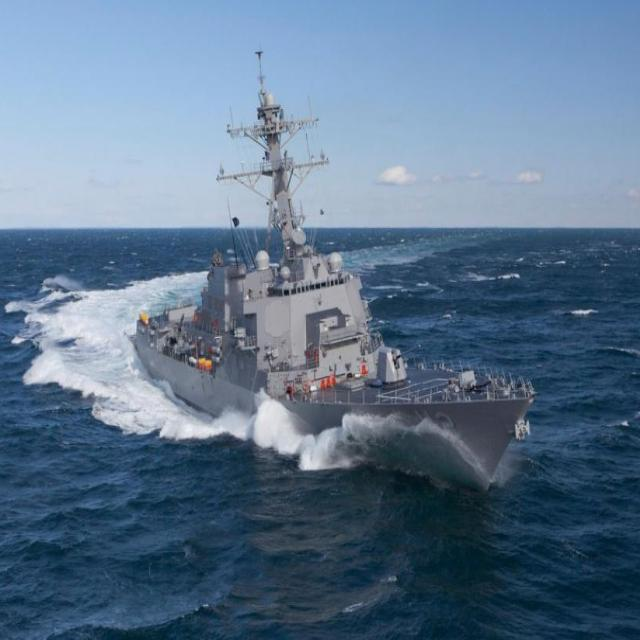navalvessels: (135, 36, 534, 503)
